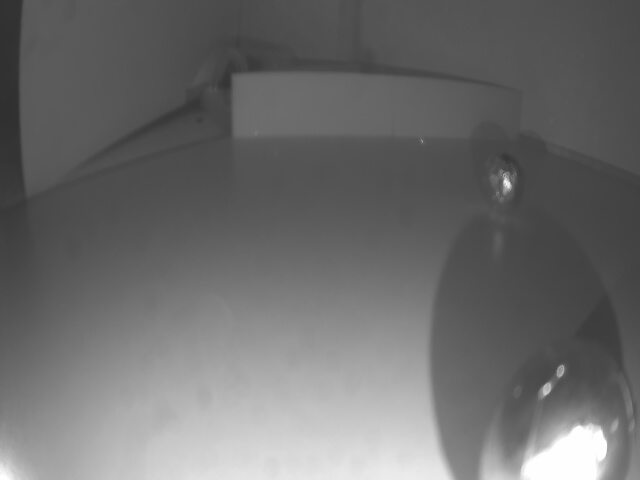Red: (234, 66, 526, 140)
